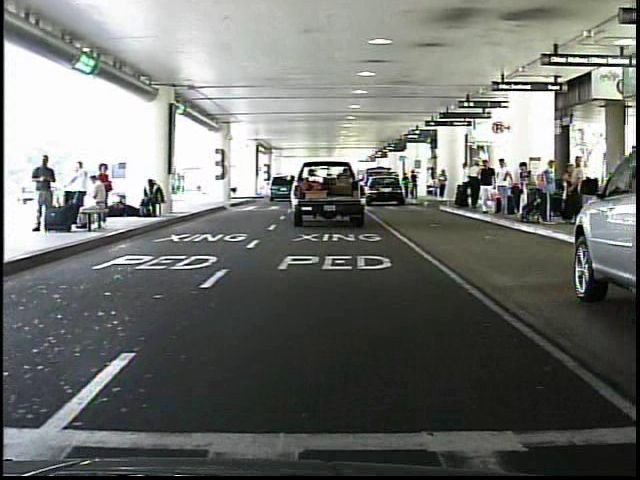person: (32, 152, 61, 236), (475, 157, 499, 224), (496, 157, 515, 220), (456, 157, 477, 212), (435, 166, 451, 206), (401, 170, 412, 203), (410, 169, 420, 204)
